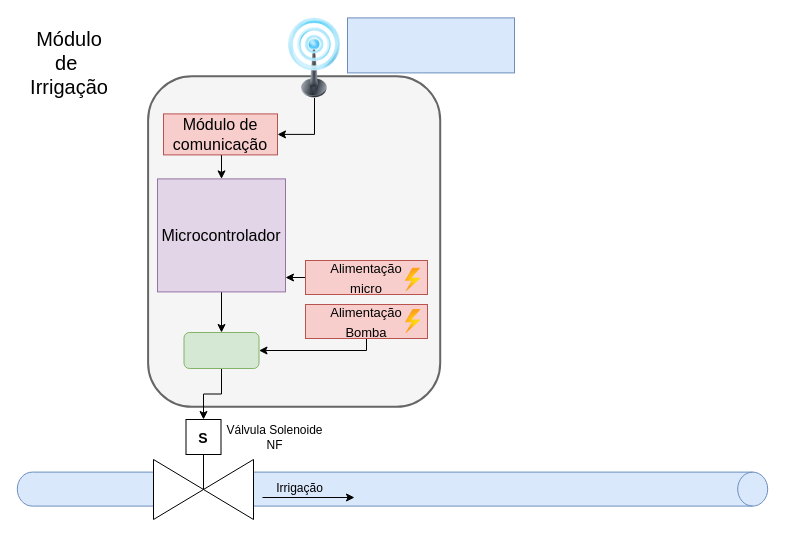
The diagram is 786 pixels wide and 541 high, and some of its shapes have lost their labels. The centre of each missing label's shape, as x and y in pixels:
"Conexão Local Bluetooth / RF ou diretamente para Nuvem" belongs at (x=430, y=45).
"Relés" belongs at (x=221, y=350).
